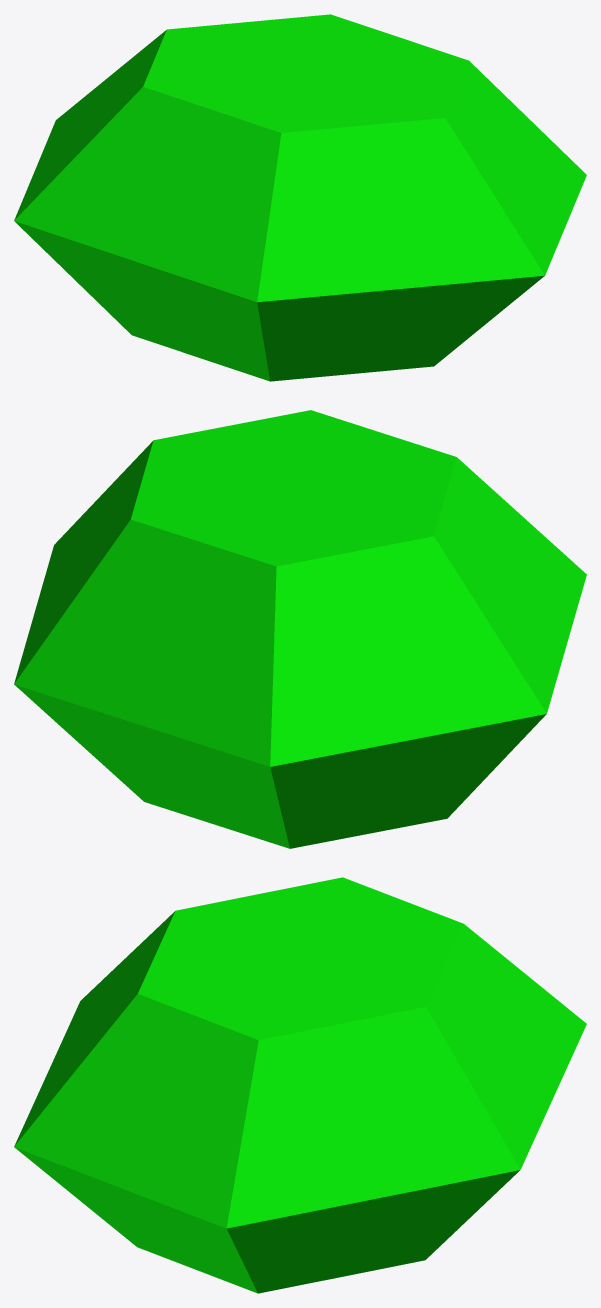
The model's file is target_Diamond_1_v001.fbx.
The picture shows the model from 3 angles, top to bottom: view 1: azimuth 30°, elevation 25°; view 2: azimuth 150°, elevation 25°; view 3: azimuth 270°, elevation 25°; orthographic projection. The views are drawn at different scales.
Parts seen in each view (by area): view 1: gem_1; view 2: gem_1; view 3: gem_1.
Boxes of the visible parts, left/top/right/bottom form: gem_1: left=14, top=14, right=586, bottom=381; gem_1: left=14, top=410, right=586, bottom=848; gem_1: left=14, top=877, right=586, bottom=1293.
Size of the model in its own units: 81.17 by 40.1 by 75.8.
